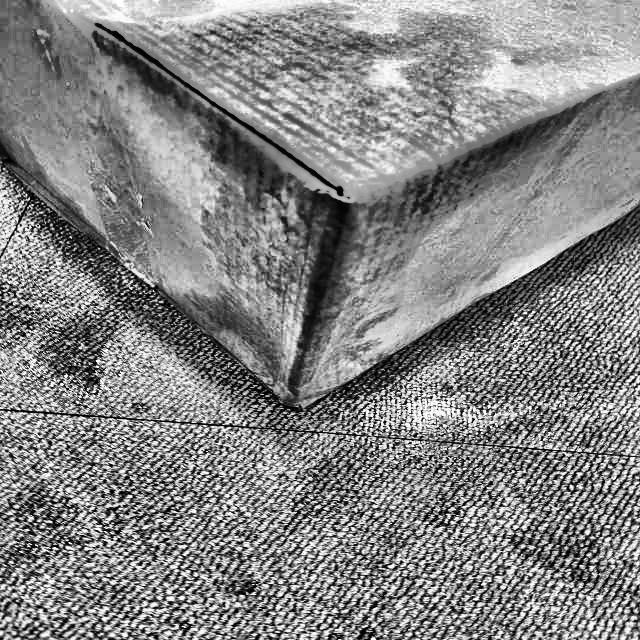box: (0, 0, 639, 424)
wet: (184, 26, 523, 410)
